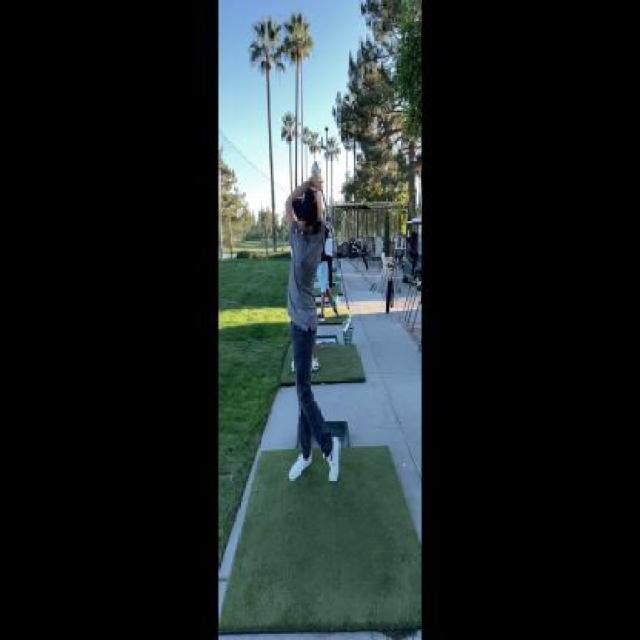club head: (340, 315, 352, 334)
